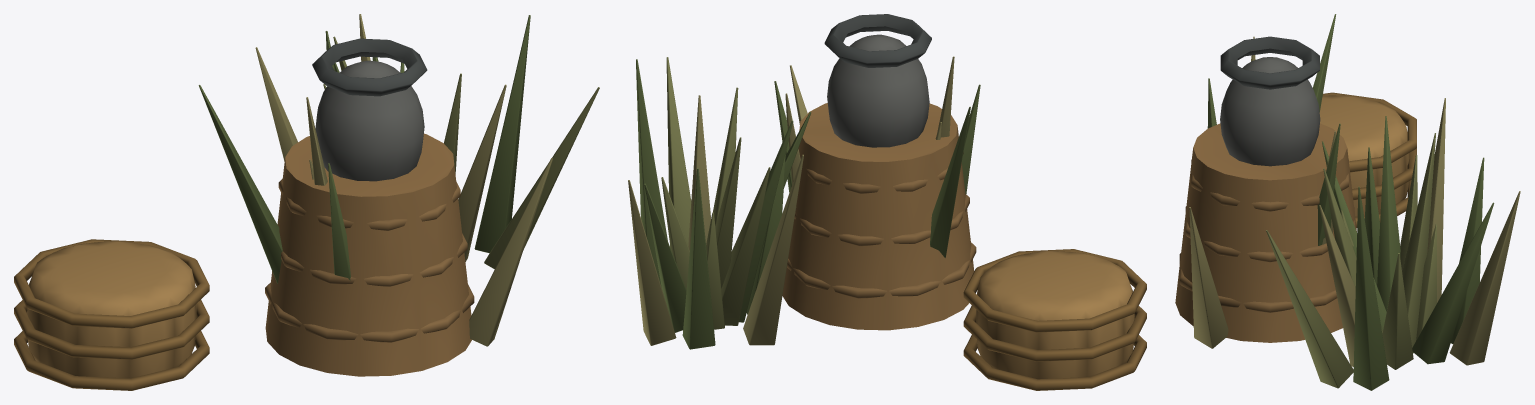
File: rope_basket_c.glb
3 renders of one model, left to right at view 1: azimuth 30°, elevation 25°; view 2: azimuth 150°, elevation 25°; view 3: azimuth 270°, elevation 25°, orthographic. The views are drawn at different scales.
Parts seen in each view (by area): view 1: Surface; view 2: Surface; view 3: Surface.
Boxes of the visible parts, x1=… form: Surface: x1=14, y1=14, x2=599, y2=390; Surface: x1=628, y1=14, x2=1146, y2=390; Surface: x1=1175, y1=14, x2=1520, y2=390.
Size of the model in its own units: 1.8 by 0.898 by 1.11.
